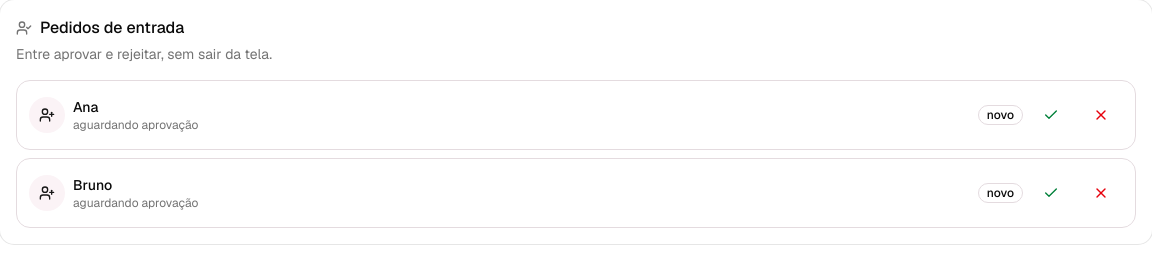
Test: PendingEntries › rejeita o pedido, tira da lista e avisa a sala
This screenshot has width=1152, height=262.
Expected: the text "Bruno" is shown, x1=73 y1=176 x2=112 y2=194
Click the button named "Rejeitar Bruno" at (1101, 193), box x1=1079 y1=171 x2=1123 y2=215
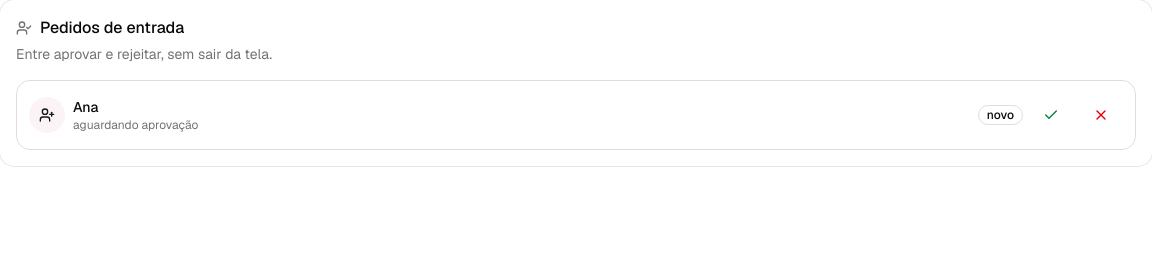
Result: the text "Bruno" is gone
